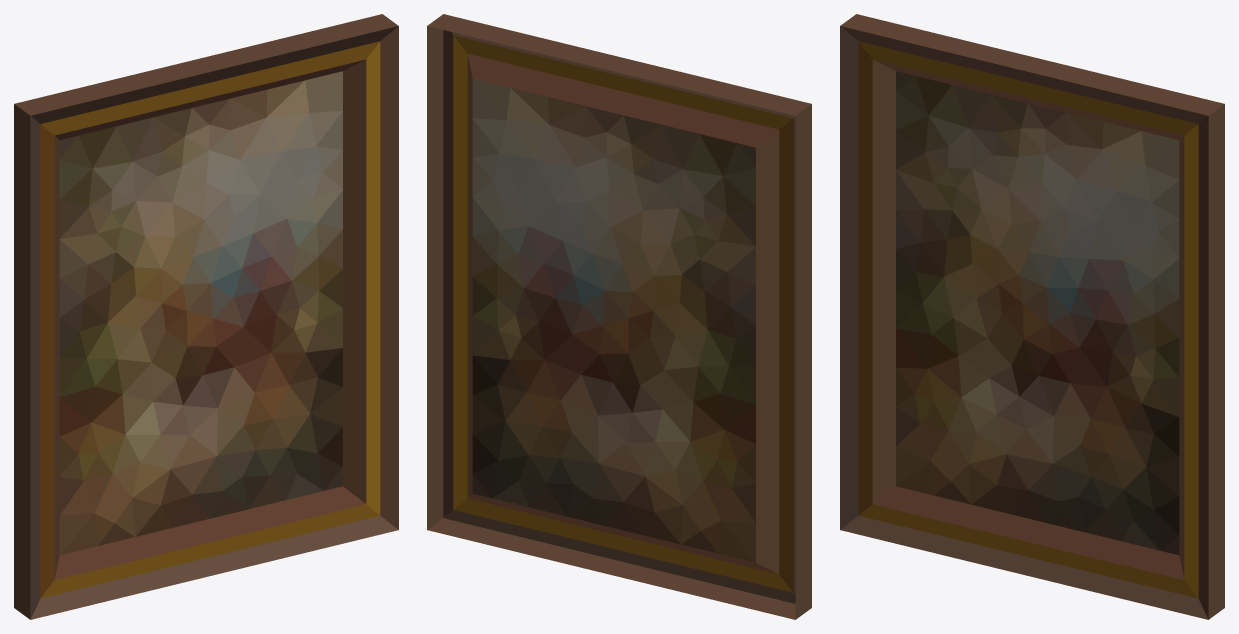
The model's file is Prop_PaintingB.fbx.
3 renders of one model, left to right at view 1: azimuth 30°, elevation 25°; view 2: azimuth 150°, elevation 25°; view 3: azimuth 330°, elevation 25°, orthographic.
Visible parts, largest first — view 1: Prop_PaintingB; view 2: Prop_PaintingB; view 3: Prop_PaintingB.
Boxes of the visible parts, x1,y1,x2,y2 form: Prop_PaintingB: [14, 14, 398, 619]; Prop_PaintingB: [427, 14, 811, 619]; Prop_PaintingB: [840, 14, 1224, 619].
Size of the model in its own units: 65 by 85 by 5.
